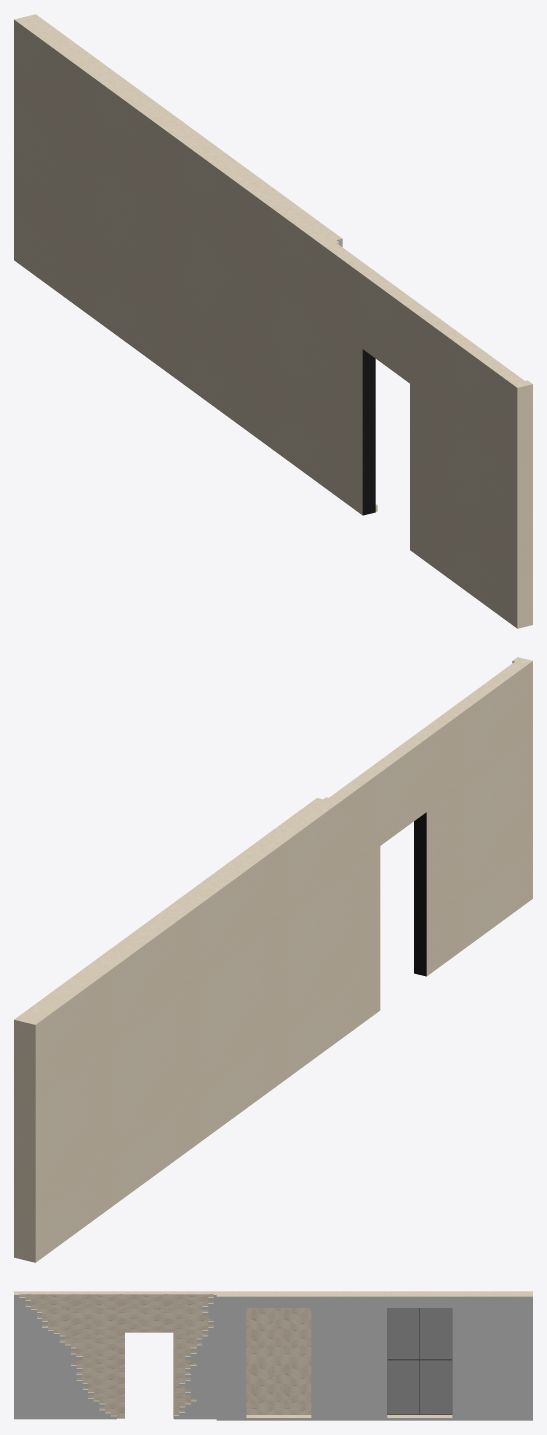
File: InteriorWall1L.FBX
3 views of the same model, one above another, from view 1: azimuth 30°, elevation 25°; view 2: azimuth 150°, elevation 25°; view 3: azimuth 270°, elevation 25° (orthographic). The views are drawn at different scales.
Visible parts, largest first — view 1: InteriorWall1L, InteriorWall1L01; view 2: InteriorWall1L; view 3: InteriorWall1L, InteriorWall1L01.
Boxes of the visible parts, x1,y1,x2,y2 form: InteriorWall1L: [14, 14, 530, 628]; InteriorWall1L01: [334, 240, 532, 625]; InteriorWall1L: [14, 657, 532, 1262]; InteriorWall1L: [14, 1291, 532, 1420]; InteriorWall1L01: [14, 1294, 216, 1419].
Size of the model in its own units: 14.17 by 149 by 566.
